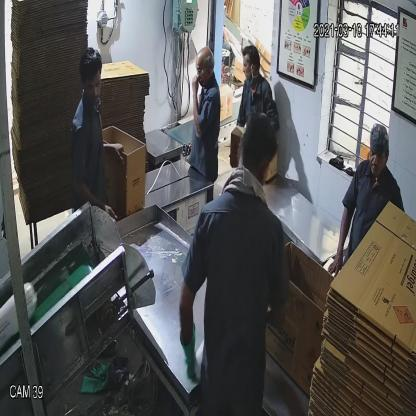glove: (173, 309, 198, 391)
no_glove: (68, 162, 121, 250), (324, 191, 352, 278), (191, 68, 204, 143)
